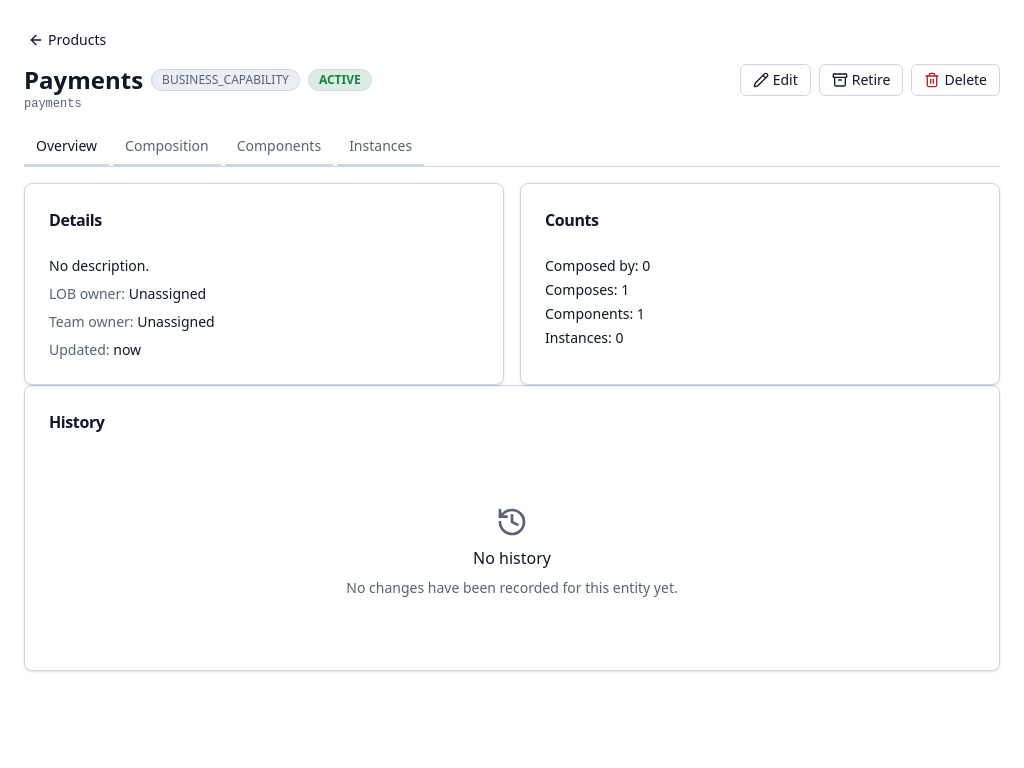
it: ProductDetailPage › composition tab shows labeled sections; components tab shows Declared/Inherited
Click the tab "Composition": (167, 147) [113,128,221,166]
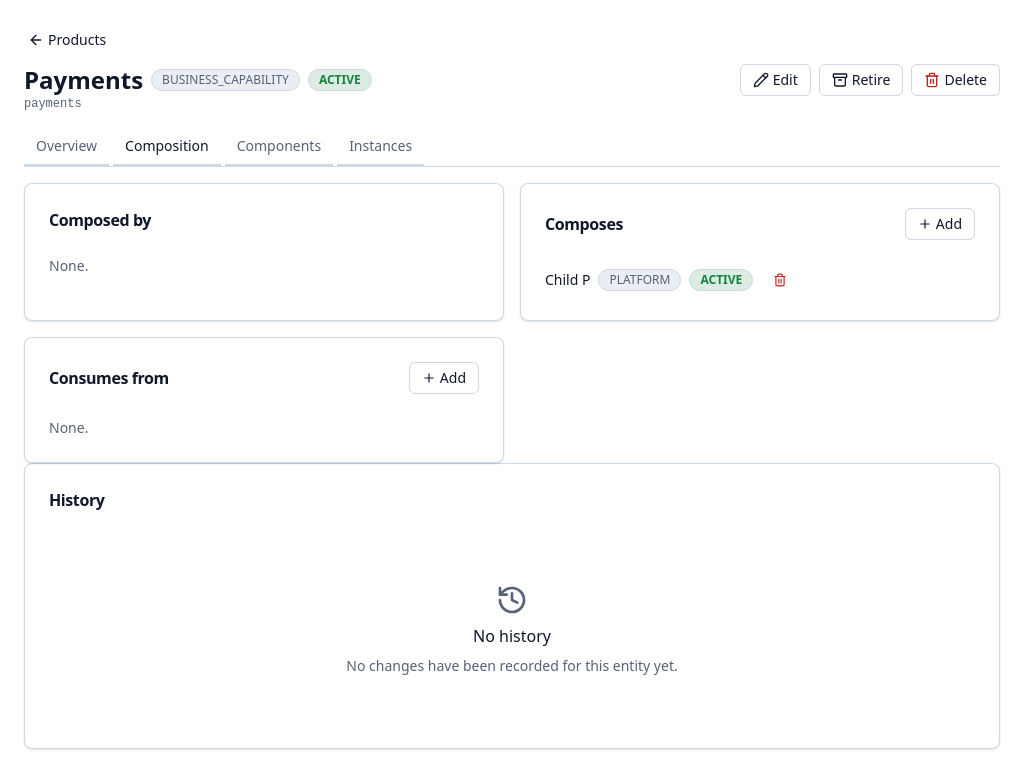
Expected: the heading "Composes" is shown, [545,212,623,236]
Expected: the link "Child P" is shown, [545,270,590,290]
Click the tab "Components": (279, 147) [225,128,333,166]
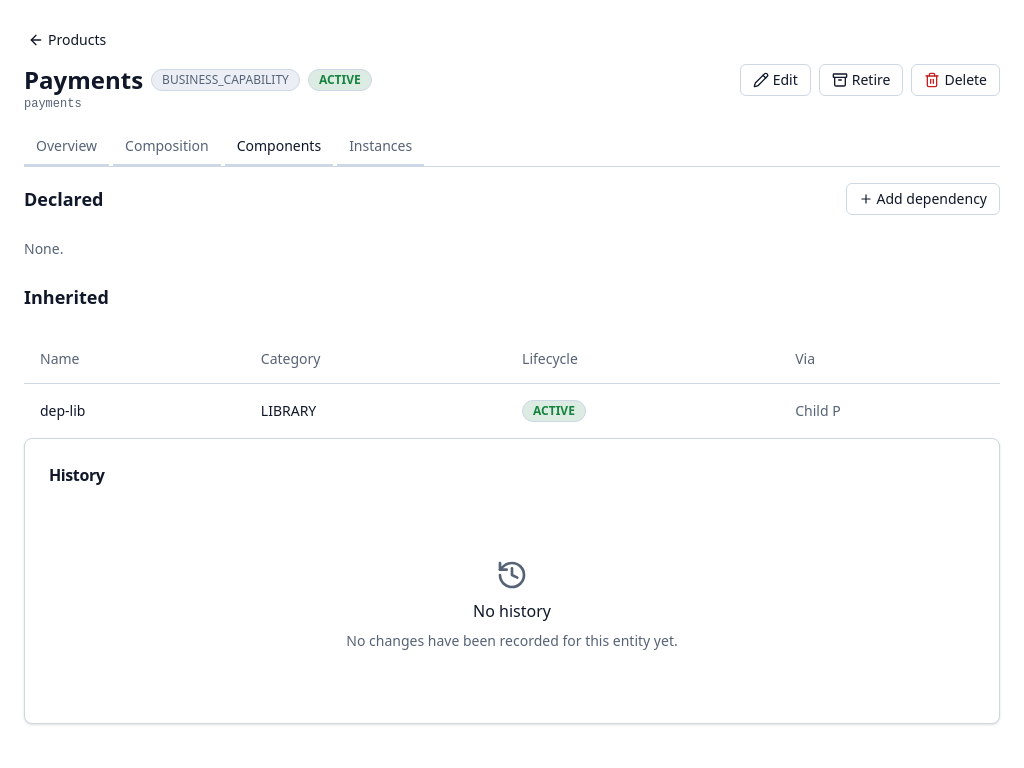
Expected: the text "Child P" is shown, [779,383,1000,438]
Expected: the heading "Inherited" is shown, [24,285,109,309]
Expected: the link "dep-lib" is shown, [40,400,86,420]
